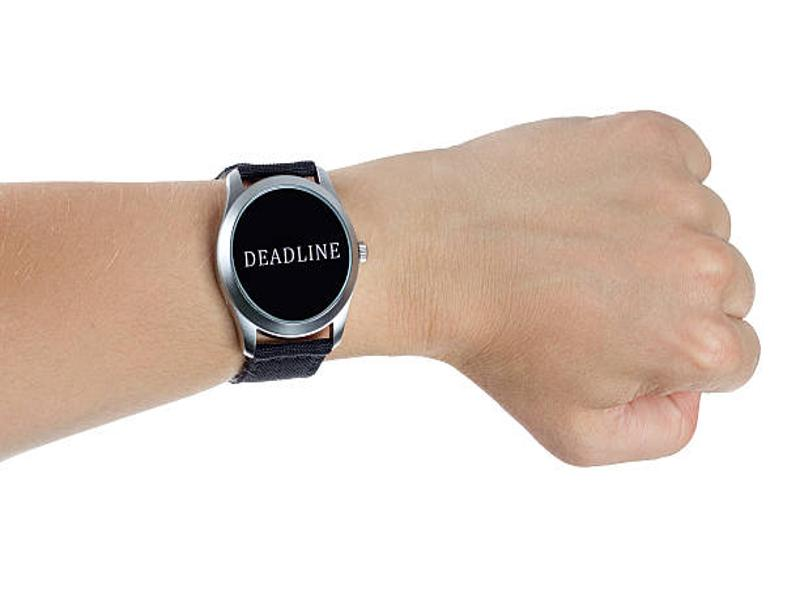watch: (209, 159, 370, 388)
